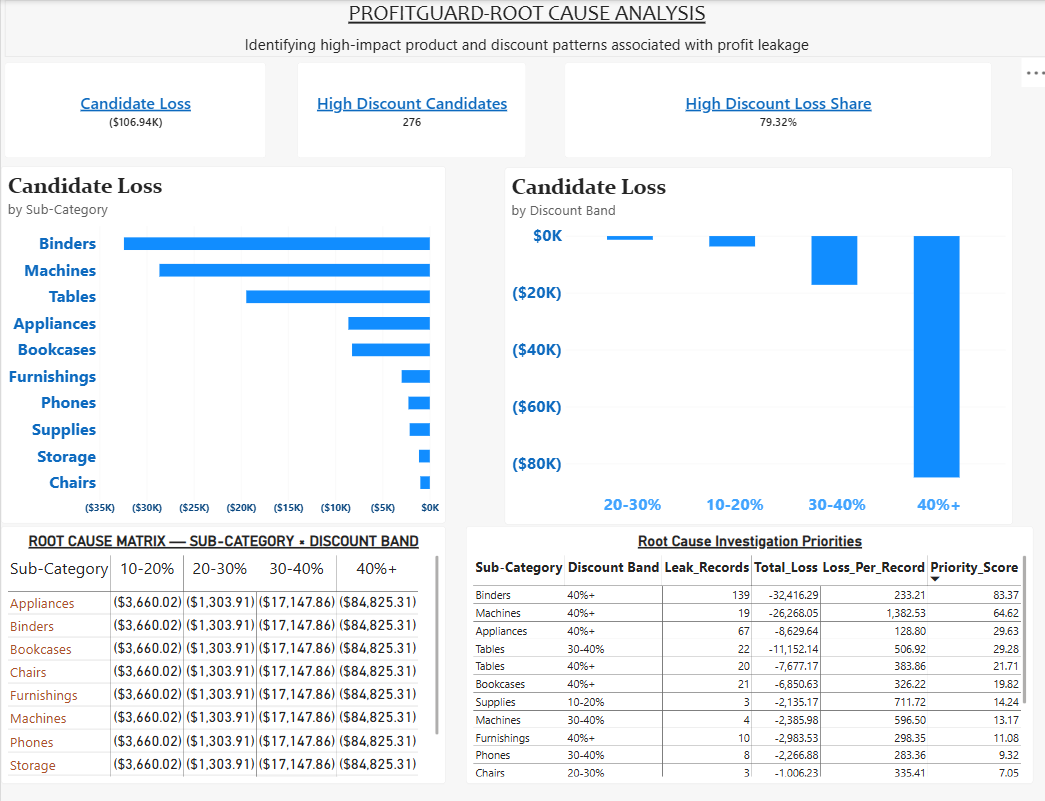

Layout of this report page (visuals, bound fields, positions):
{"tool":"powerbi","page":{"name":"Root Cause Analysis","canvas":[2600,2000],"ordinal":2},"visuals":[{"type":"textbox","box":[10,0,2590,143.3],"z":0},{"type":"cardVisual","fields":{"Data":["profitguard_full.Candidate Loss"]},"box":[10,153.3,646.7,236.7],"z":1000},{"type":"cardVisual","fields":{"Data":["profitguard_full.High Discount Candidates"]},"box":[733.3,153.3,566.7,236.7],"z":2000},{"type":"cardVisual","fields":{"Data":["profitguard_full.High Discount Loss Share"]},"box":[1393.3,153.3,1056.7,236.7],"z":3000},{"type":"clusteredBarChart","fields":{"Category":["profitguard_full.Sub-Category"],"Y":["profitguard_full.Candidate Loss"]},"box":[0,410,1100,883.3],"z":4000},{"type":"clusteredColumnChart","fields":{"Category":["profitguard_full.Discount Band"],"Y":["profitguard_full.Candidate Loss"]},"box":[1246.7,413.3,1256.7,883.3],"z":5000},{"type":"pivotTable","title":"ROOT CAUSE MATRIX — SUB-CATEGORY × DISCOUNT BAND","fields":{"Columns":["profitguard_full.Discount Band"],"Rows":["profitguard_root_cause.Sub-Category"],"Values":["profitguard_full.Candidate Loss"]},"box":[0,1303.3,1100,636.7],"z":6000},{"type":"tableEx","title":"Root Cause Investigation Priorities","fields":{"Values":["profitguard_root_cause.Sub-Category","profitguard_root_cause.Discount Band","profitguard_root_cause.Leak_Records","profitguard_root_cause.Total_Loss","profitguard_root_cause.Loss_Per_Record","profitguard_root_cause.Priority_Score"]},"box":[1150,1303.3,1403.3,636.7],"z":7000}]}

Visuals, with their boxes in screenshot pixels (x1, y1, x2, y2), scaled from the page's 2600x2000 canvas onto the 1045x801 screenshot:
textbox: (4,0,1044,57)
cardVisual - profitguard_full.Candidate Loss: (4,61,264,156)
cardVisual - profitguard_full.High Discount Candidates: (295,61,522,156)
cardVisual - profitguard_full.High Discount Loss Share: (560,61,985,156)
clusteredBarChart - profitguard_full.Sub-Category x profitguard_full.Candidate Loss: (0,164,442,518)
clusteredColumnChart - profitguard_full.Discount Band x profitguard_full.Candidate Loss: (501,166,1006,519)
"ROOT CAUSE MATRIX — SUB-CATEGORY × DISCOUNT BAND" pivotTable: (0,522,442,777)
"Root Cause Investigation Priorities" tableEx: (462,522,1026,777)
